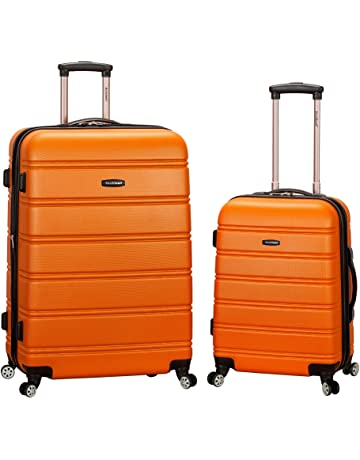luggage: (2, 55, 202, 395), (206, 79, 358, 399)
